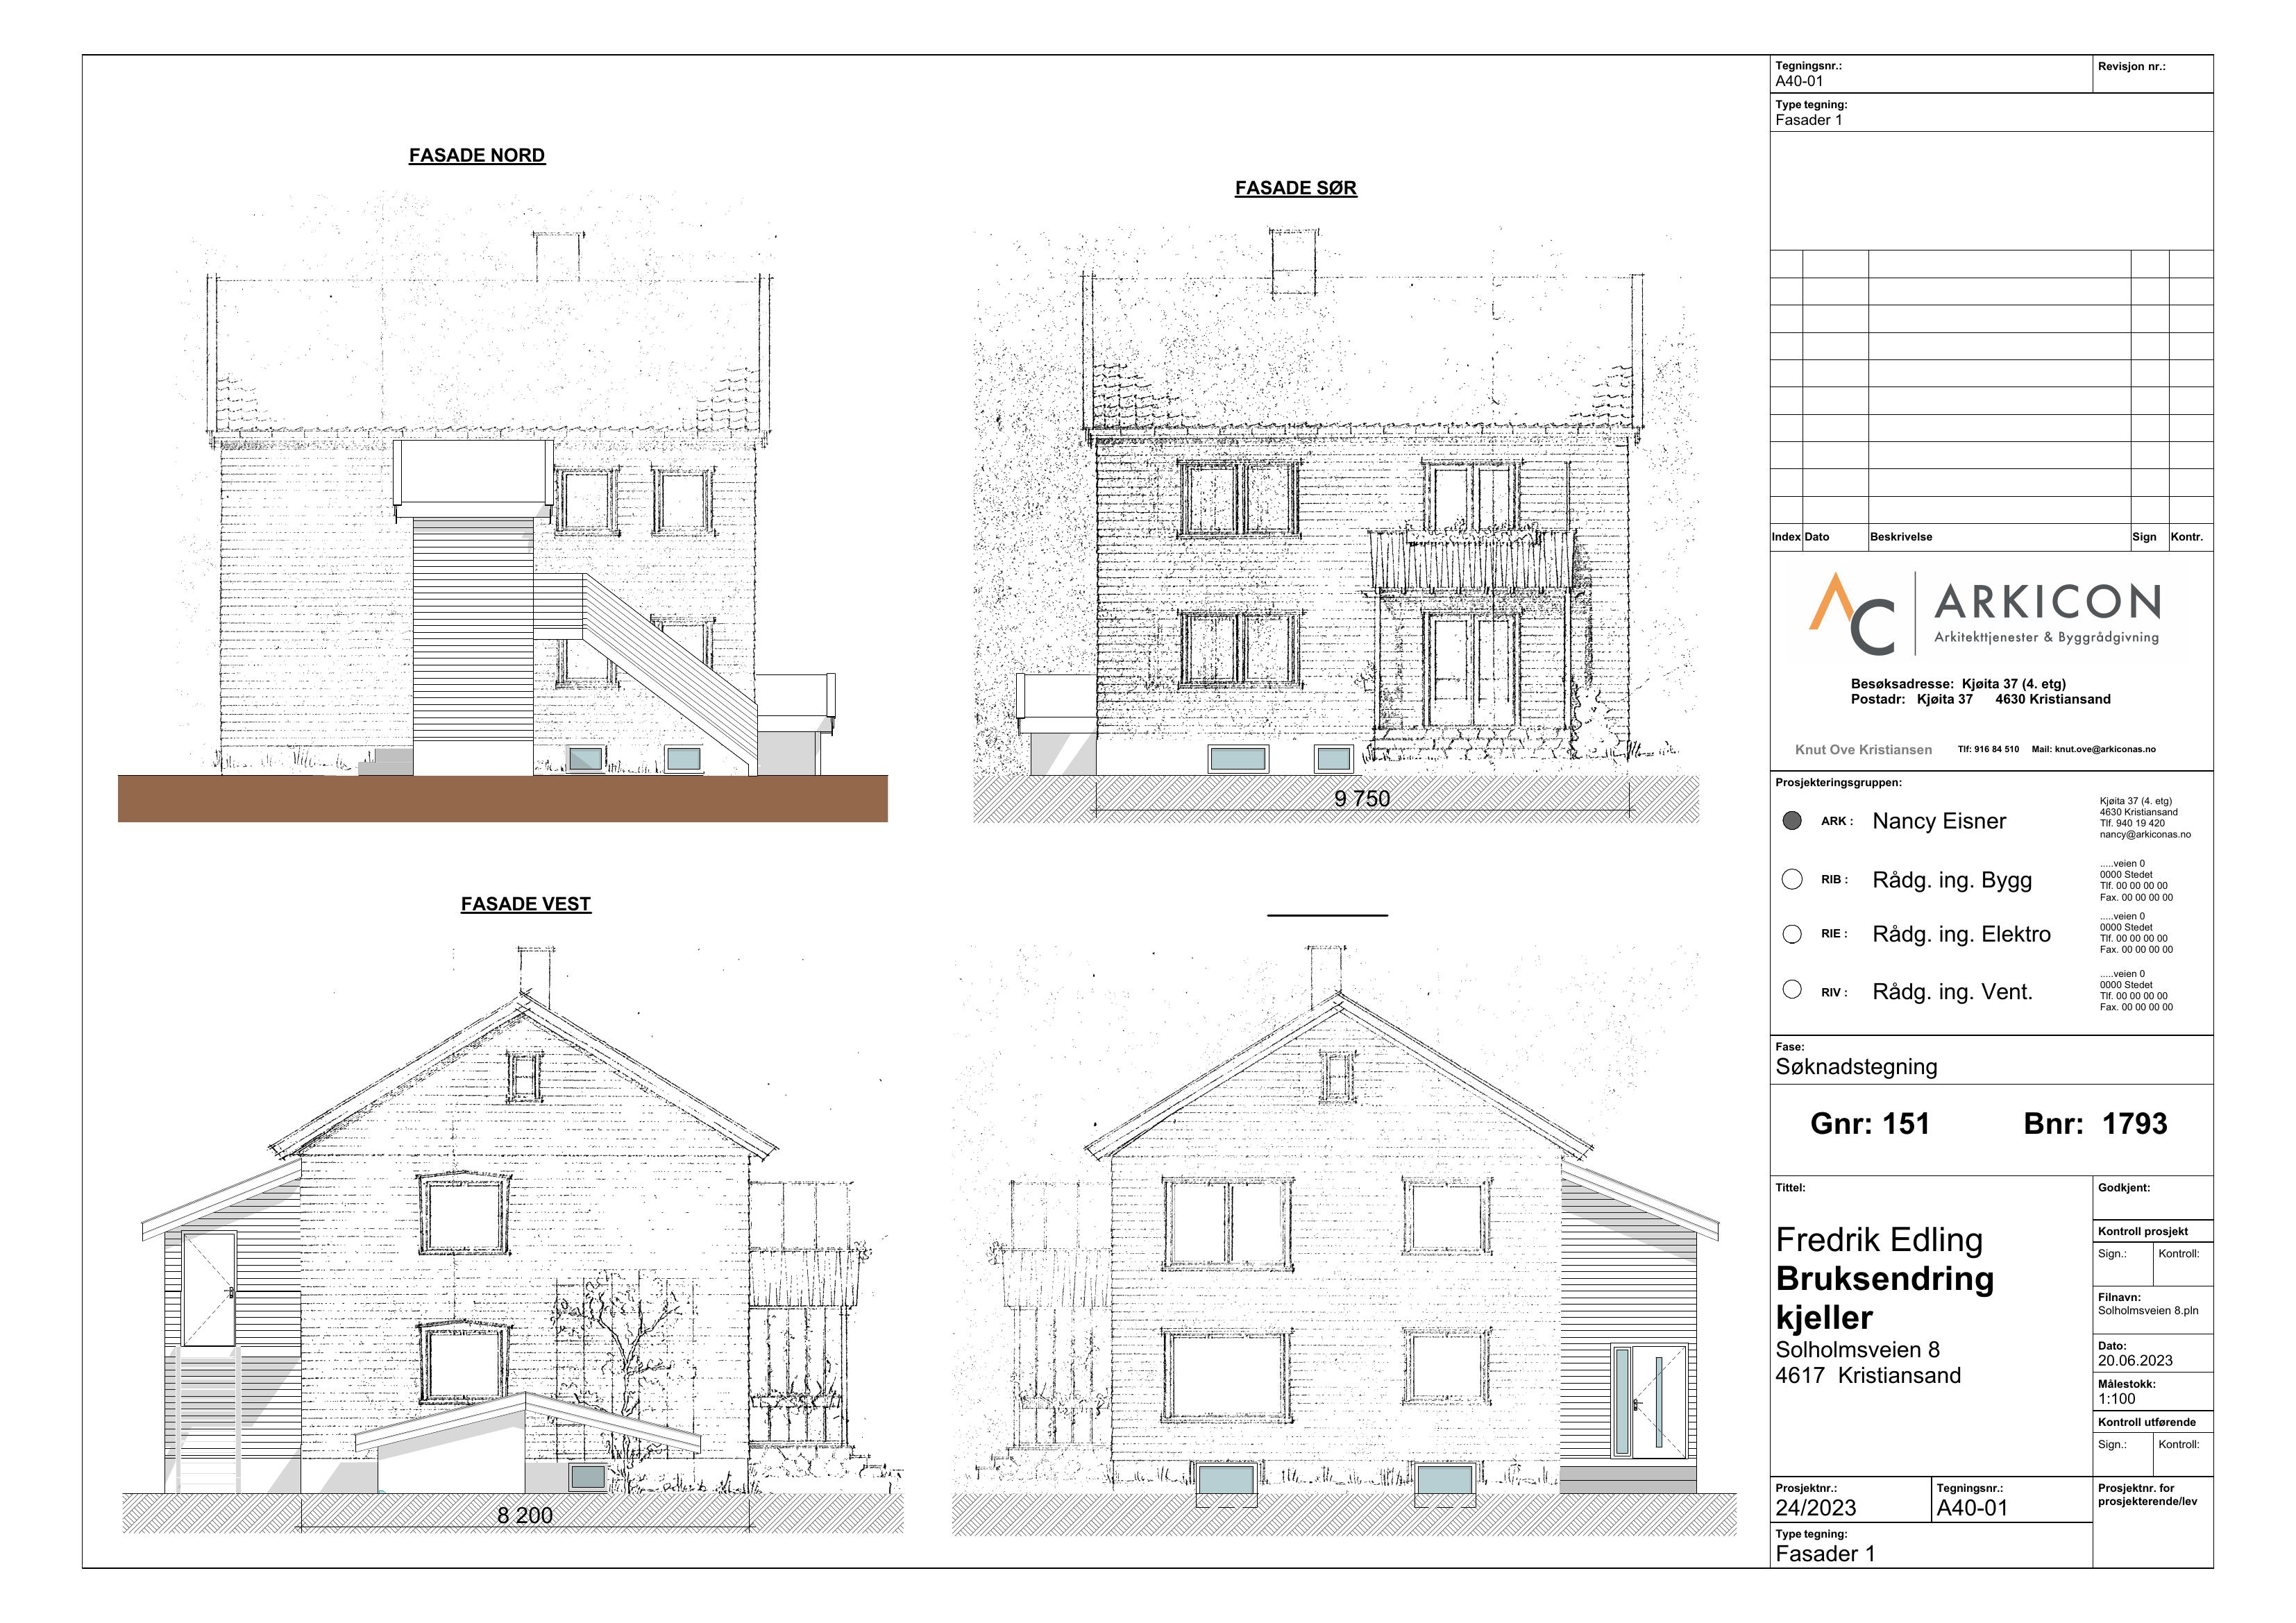fasade: (995, 942, 1723, 1522), (127, 940, 879, 1502), (171, 231, 882, 809), (1000, 223, 1657, 788)
